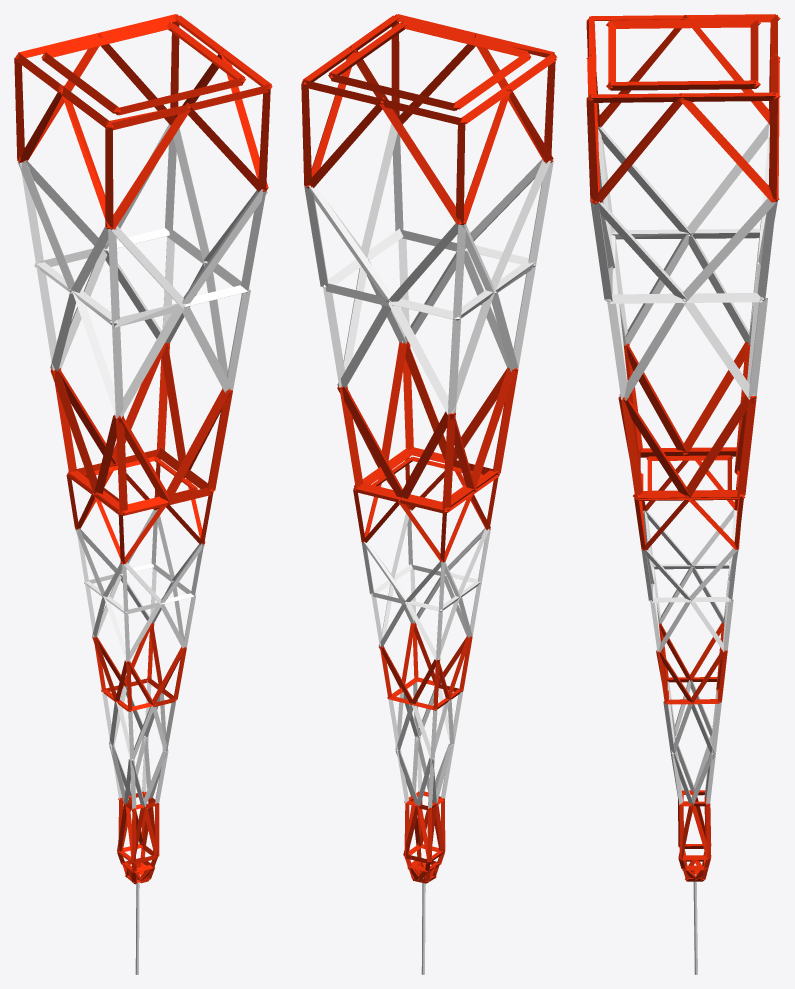
File: antena.obj
The picture shows the model from 3 angles, left to right: view 1: azimuth 30°, elevation 25°; view 2: azimuth 150°, elevation 25°; view 3: azimuth 270°, elevation 25°; orthographic projection.
Parts seen in each view (by area): view 1: Cylinder.2; view 2: Cylinder.2; view 3: Cylinder.2.
Boxes of the visible parts, x1,y1,x2,y2 form: Cylinder.2: (14,14,272,974); Cylinder.2: (301,14,557,974); Cylinder.2: (586,14,780,974).
Size of the model in its own units: 95.96 by 504 by 95.95.
